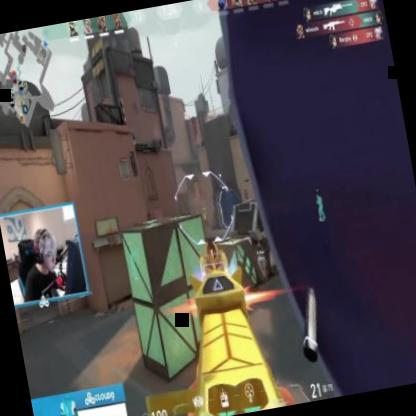enemy: (201, 207, 208, 227)
enemy_head: (202, 208, 204, 212)
